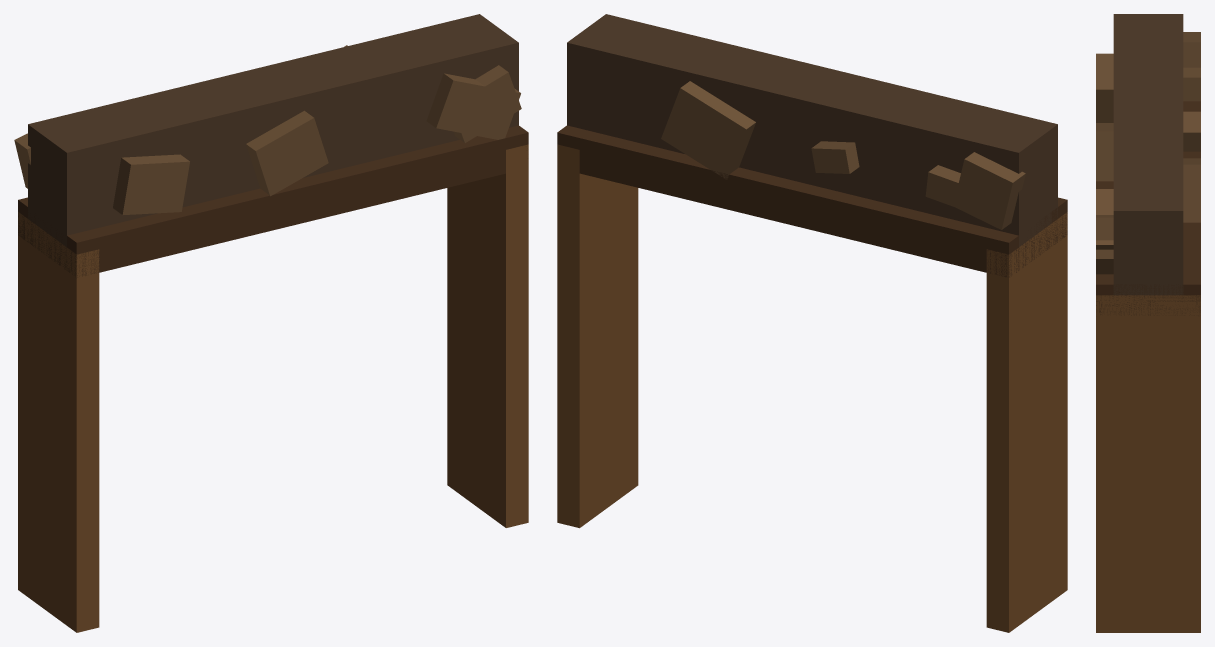
The model's file is wall_door_4m.glb.
3 views of the same model, side by side, from view 1: azimuth 30°, elevation 25°; view 2: azimuth 150°, elevation 25°; view 3: azimuth 270°, elevation 25° (orthographic). The views are drawn at different scales.
Visible parts, largest first — view 1: wall_door_4m; view 2: wall_door_4m; view 3: wall_door_4m.
Boxes of the visible parts, bbox=[...] form: wall_door_4m: bbox=[14, 14, 528, 632]; wall_door_4m: bbox=[557, 14, 1067, 632]; wall_door_4m: bbox=[1096, 14, 1200, 632].
Bounding box in the file's own units: 4.03 × 4 × 0.9.
1 material, 1 textured.
